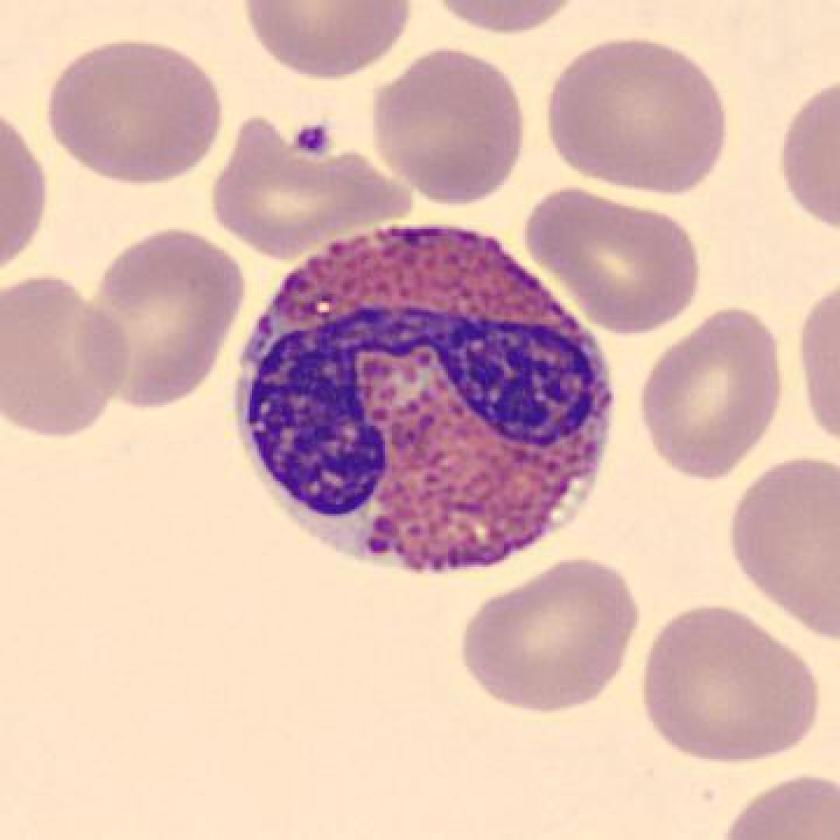eosinophil: (227, 207, 624, 586)
